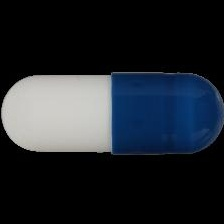63187-612: (0, 0, 224, 224)
